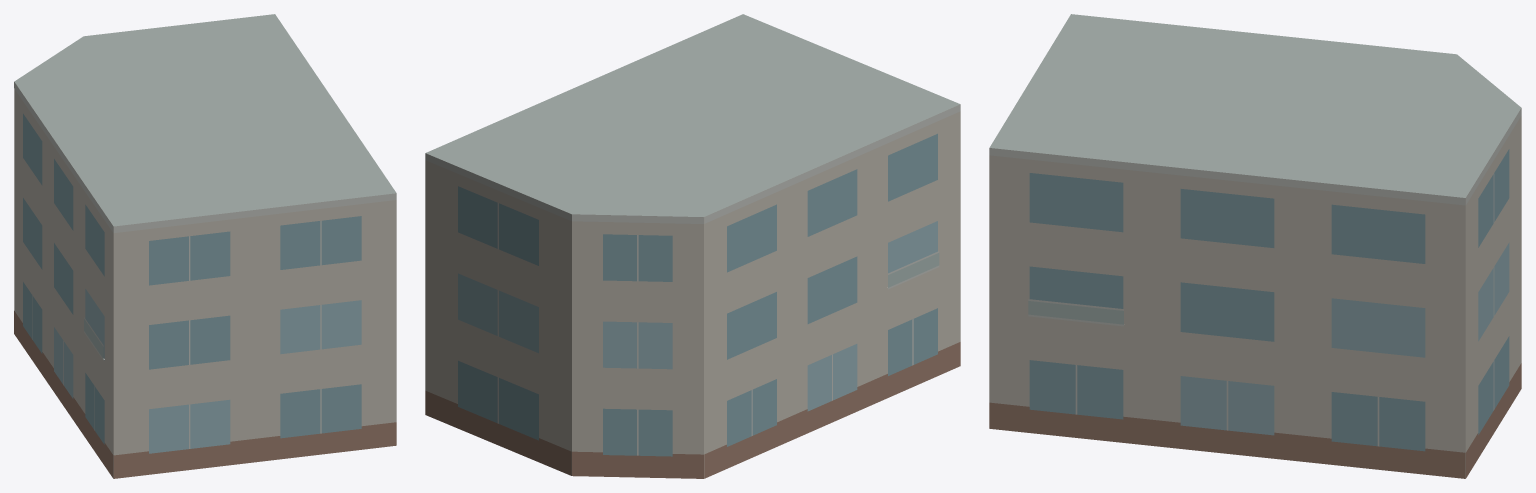
The model's file is survey-upis-32820864.glb.
3 renders of one model, left to right at view 1: azimuth 30°, elevation 25°; view 2: azimuth 150°, elevation 25°; view 3: azimuth 270°, elevation 25°, orthographic. The views are drawn at different scales.
Parts seen in each view (by area): view 1: survey-upis-32820864.tmp; view 2: survey-upis-32820864.tmp; view 3: survey-upis-32820864.tmp.
Boxes of the visible parts, <box> form: survey-upis-32820864.tmp: <box>14,14,396,478</box>; survey-upis-32820864.tmp: <box>425,14,960,478</box>; survey-upis-32820864.tmp: <box>989,14,1521,478</box>.
Size of the model in its own units: 12.87 by 9.15 by 15.73.
